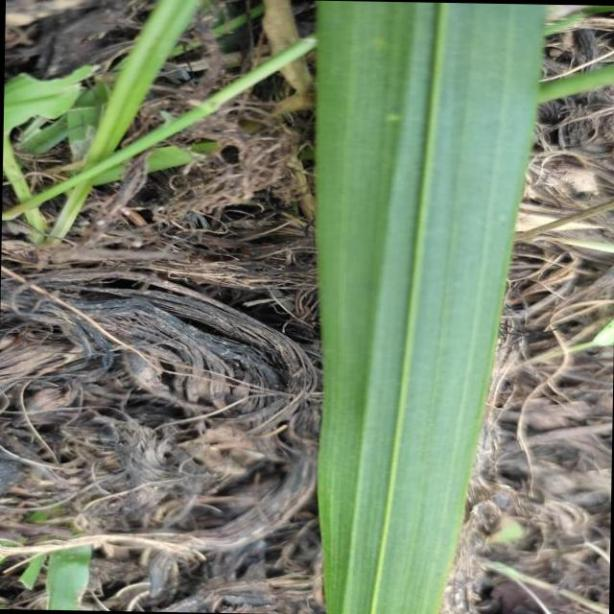Healthy: (316, 0, 544, 614)
